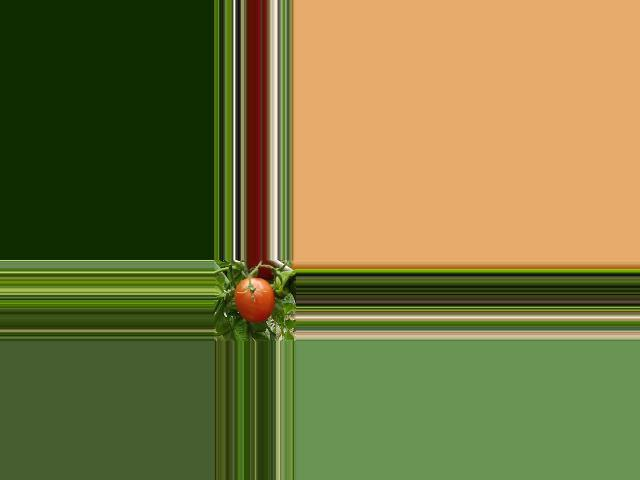tomato: (234, 277, 273, 321)
